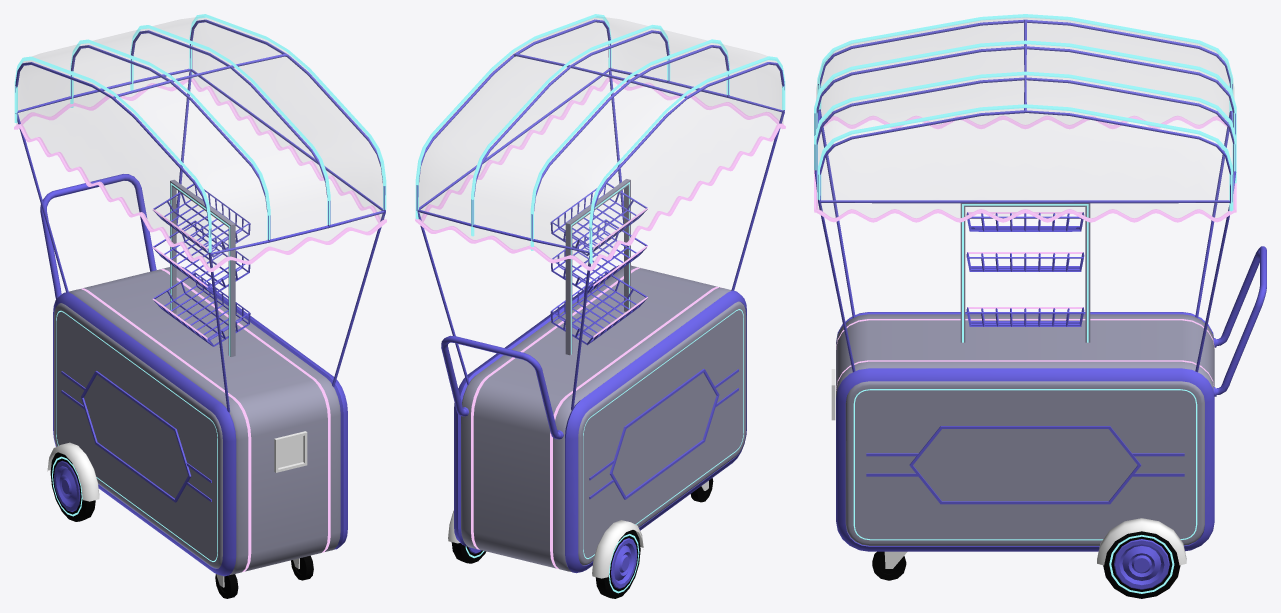
File: SM_Cart.fbx
3 renders of one model, left to right at view 1: azimuth 30°, elevation 25°; view 2: azimuth 150°, elevation 25°; view 3: azimuth 270°, elevation 25°, orthographic. The views are drawn at different scales.
Visible parts, largest first — view 1: Mesh_FoodCart; view 2: Mesh_FoodCart; view 3: Mesh_FoodCart.
Part boxes in pixels (x1=…): Mesh_FoodCart: x1=14, y1=14, x2=386, y2=598; Mesh_FoodCart: x1=415, y1=14, x2=785, y2=598; Mesh_FoodCart: x1=814, y1=14, x2=1266, y2=598.
Bounding box in the file's own units: 55.28 × 137 × 111.
